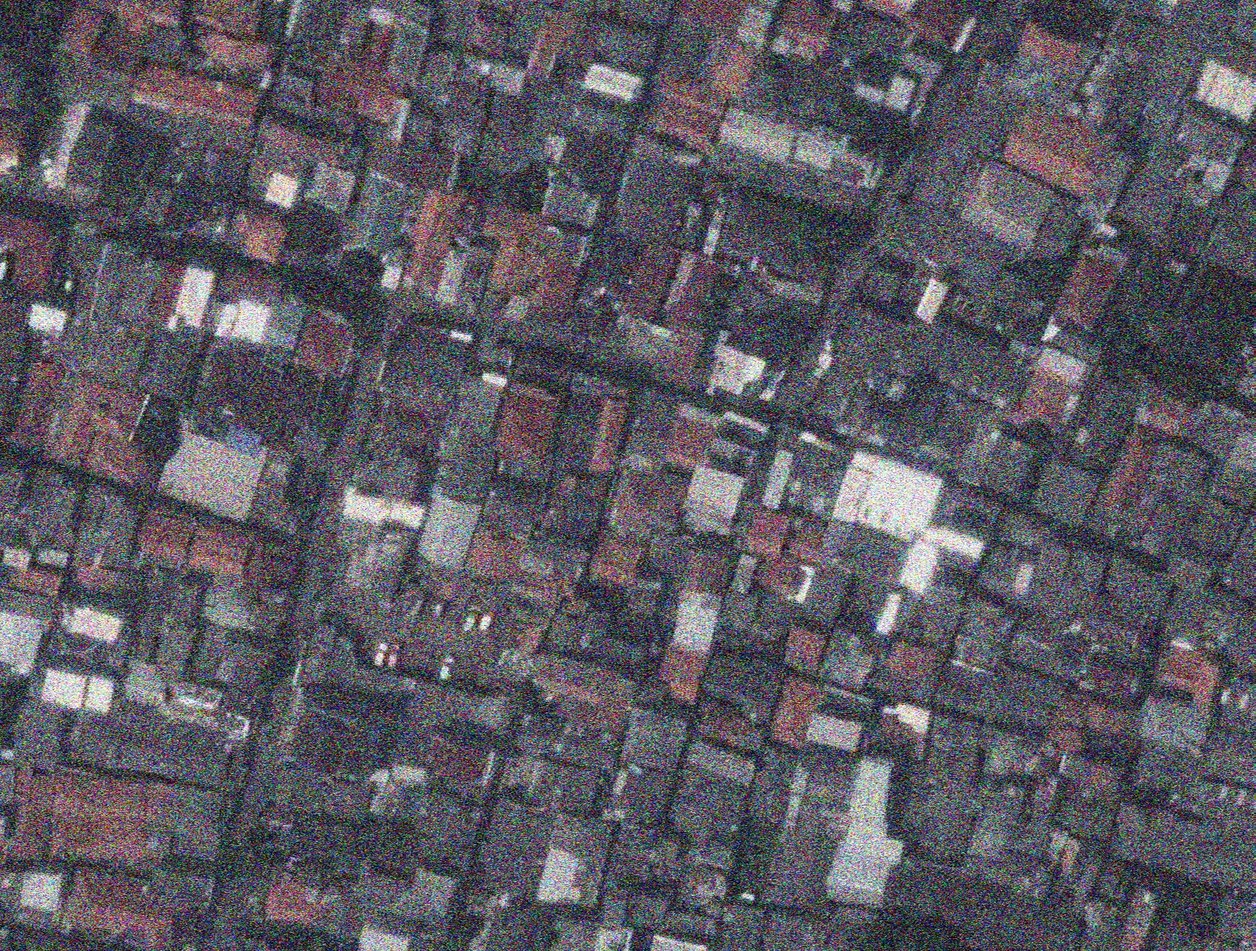building: (809, 491, 986, 646), (705, 91, 893, 225), (63, 689, 254, 798), (878, 852, 1088, 951), (1105, 766, 1256, 893), (996, 92, 1142, 221), (294, 613, 458, 724), (910, 77, 1026, 226), (715, 96, 890, 194), (962, 725, 1065, 880), (893, 312, 1035, 417), (956, 156, 1088, 267), (649, 25, 762, 153), (523, 627, 647, 741), (921, 386, 1046, 499), (1001, 322, 1108, 448), (42, 0, 153, 117), (977, 12, 1103, 114), (1083, 426, 1184, 550), (130, 46, 268, 132), (828, 446, 946, 546), (680, 407, 769, 539), (605, 129, 701, 249), (155, 422, 269, 523), (433, 368, 515, 508), (45, 370, 146, 482), (189, 332, 286, 447), (312, 17, 420, 120), (1052, 215, 1144, 334), (741, 738, 846, 842), (280, 691, 388, 792), (1091, 1, 1207, 94), (313, 512, 405, 619), (1127, 722, 1256, 798), (202, 274, 310, 359), (481, 792, 561, 905), (515, 213, 599, 319), (671, 738, 757, 841), (1140, 442, 1213, 563), (1151, 147, 1234, 252), (58, 867, 177, 940), (1001, 597, 1101, 683), (1114, 138, 1199, 239), (794, 564, 901, 644), (124, 564, 204, 671), (537, 806, 614, 914), (599, 816, 685, 912), (404, 680, 516, 753), (838, 755, 914, 862), (396, 183, 466, 299), (1070, 42, 1157, 135), (1064, 375, 1143, 477), (474, 449, 558, 544), (359, 124, 461, 201), (386, 321, 473, 409), (553, 374, 630, 473), (412, 42, 499, 129), (75, 239, 161, 327), (469, 206, 552, 297), (696, 642, 788, 724), (157, 671, 260, 744), (1160, 0, 1253, 80), (605, 452, 691, 537), (877, 367, 955, 460), (1022, 533, 1108, 617), (52, 312, 144, 390), (923, 212, 1014, 290), (474, 82, 550, 174), (0, 197, 73, 292), (185, 618, 275, 695), (1115, 75, 1195, 161), (1161, 577, 1245, 658), (1117, 245, 1193, 334), (777, 430, 853, 519), (827, 293, 908, 376), (340, 170, 413, 262), (950, 251, 1050, 318), (799, 340, 872, 431), (410, 488, 484, 577), (738, 498, 828, 571), (977, 662, 1061, 740), (760, 827, 836, 913), (404, 783, 489, 859), (260, 361, 327, 457), (490, 378, 565, 463), (511, 711, 619, 769), (246, 448, 316, 537), (657, 246, 725, 336), (870, 629, 948, 707), (44, 599, 133, 667), (593, 0, 674, 74), (719, 190, 800, 263), (44, 808, 153, 862), (288, 304, 364, 381), (1033, 827, 1108, 905), (133, 318, 204, 400), (52, 765, 150, 824), (96, 124, 158, 216), (76, 486, 142, 571), (518, 2, 584, 87), (1185, 396, 1256, 475), (801, 683, 876, 757), (12, 356, 69, 453), (758, 905, 878, 951), (139, 777, 228, 839), (617, 386, 681, 472), (5, 691, 72, 773), (59, 109, 120, 199), (1098, 549, 1176, 619), (1201, 184, 1256, 283), (1165, 103, 1245, 171), (1153, 635, 1227, 708), (767, 0, 842, 72), (536, 467, 608, 542), (727, 302, 809, 367), (603, 752, 674, 827), (198, 577, 284, 638), (818, 849, 897, 915), (352, 437, 431, 503), (620, 699, 691, 772), (256, 114, 348, 170), (675, 0, 779, 49), (522, 752, 598, 818), (911, 513, 989, 577), (495, 597, 552, 684), (930, 477, 1005, 543), (20, 466, 81, 547), (240, 143, 310, 213), (1048, 783, 1123, 848), (556, 120, 622, 193), (621, 238, 679, 321), (159, 183, 234, 247), (818, 619, 883, 692), (677, 825, 741, 899), (179, 517, 254, 580), (547, 894, 631, 950), (0, 589, 54, 676), (923, 651, 995, 716), (654, 318, 717, 392), (237, 532, 299, 607), (659, 396, 717, 476), (522, 518, 592, 584), (39, 661, 117, 720), (1032, 460, 1100, 527), (5, 770, 55, 861), (829, 525, 906, 584), (171, 106, 256, 159), (901, 0, 980, 57), (607, 310, 680, 371), (340, 485, 427, 536), (371, 394, 446, 453), (767, 669, 823, 748), (459, 522, 526, 587), (479, 896, 558, 951), (663, 586, 723, 658), (1185, 493, 1248, 561), (1137, 694, 1213, 750), (891, 196, 955, 262), (287, 816, 376, 863), (706, 338, 770, 403), (583, 528, 649, 591), (1040, 681, 1100, 750), (401, 862, 463, 928), (193, 26, 274, 76), (872, 695, 936, 758), (131, 501, 197, 562), (1186, 62, 1256, 119), (227, 203, 290, 266), (260, 873, 330, 929), (424, 734, 500, 785), (1080, 591, 1150, 646), (975, 537, 1036, 600), (369, 759, 430, 822), (508, 553, 573, 612), (263, 767, 331, 823), (299, 156, 361, 217), (1133, 384, 1198, 442), (215, 259, 286, 312), (149, 859, 219, 912), (84, 427, 149, 484), (696, 699, 768, 750), (651, 644, 708, 708), (257, 289, 312, 355), (888, 44, 946, 104), (368, 813, 425, 874), (1219, 503, 1255, 599), (0, 857, 66, 909), (0, 303, 26, 435), (384, 17, 433, 86), (353, 862, 414, 917), (170, 262, 219, 330), (1055, 747, 1130, 791), (831, 383, 885, 444), (462, 1, 517, 59), (921, 713, 980, 767), (748, 591, 801, 650), (681, 537, 732, 598), (1117, 884, 1163, 951), (150, 622, 200, 683), (661, 888, 722, 937), (114, 656, 170, 709), (286, 0, 349, 47), (388, 713, 438, 772), (319, 886, 371, 942), (896, 536, 944, 596), (642, 525, 695, 579), (755, 548, 811, 599), (915, 809, 973, 858), (959, 594, 1018, 642), (990, 506, 1049, 554), (711, 904, 771, 951), (218, 625, 276, 673), (1076, 898, 1128, 951), (947, 628, 1008, 673), (780, 619, 829, 673), (409, 556, 463, 603), (1165, 547, 1219, 593), (195, 146, 249, 192), (759, 445, 797, 510), (8, 557, 65, 600), (860, 257, 909, 307), (1214, 887, 1256, 943), (252, 798, 302, 845), (716, 587, 761, 638), (0, 462, 26, 548), (227, 296, 272, 345), (1219, 676, 1256, 735), (434, 248, 471, 307), (433, 116, 482, 159), (1225, 605, 1255, 672), (190, 624, 225, 681), (622, 572, 664, 619), (543, 609, 585, 656), (913, 274, 951, 325), (401, 102, 442, 147), (466, 577, 511, 617), (881, 70, 921, 115), (575, 606, 611, 654), (1089, 699, 1139, 733), (597, 633, 647, 667), (71, 561, 122, 594), (0, 110, 26, 174), (1081, 668, 1142, 695), (486, 57, 528, 96), (446, 573, 481, 618), (925, 783, 973, 815), (729, 551, 760, 595), (851, 76, 888, 109), (630, 892, 663, 926), (650, 930, 708, 949), (559, 590, 592, 621), (36, 544, 70, 569), (1, 544, 32, 570)
tree: (848, 102, 921, 175), (790, 204, 864, 274), (1199, 275, 1253, 362), (133, 395, 188, 462), (471, 159, 546, 208), (280, 205, 340, 266), (868, 922, 973, 951), (1016, 252, 1071, 304), (1106, 334, 1159, 387), (1161, 349, 1217, 399), (335, 240, 388, 290), (307, 385, 347, 435), (271, 927, 356, 949), (1017, 453, 1051, 500), (1011, 313, 1046, 345), (696, 299, 730, 331), (541, 343, 571, 372), (1024, 418, 1055, 444)
